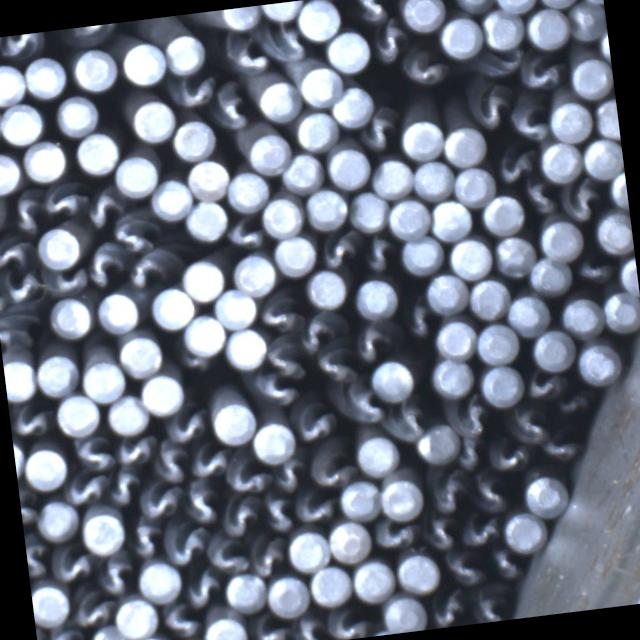tool: (80, 505, 128, 554), (522, 472, 570, 520), (116, 331, 164, 379), (71, 44, 120, 91), (436, 14, 483, 62), (22, 444, 69, 492), (324, 144, 372, 191), (265, 572, 312, 620), (210, 399, 258, 446), (120, 37, 168, 84), (80, 355, 128, 402), (130, 96, 177, 144), (34, 223, 82, 269), (148, 282, 196, 328), (324, 28, 372, 74), (54, 391, 102, 437), (21, 138, 69, 184), (136, 557, 184, 603), (538, 216, 586, 262), (73, 129, 121, 175), (394, 549, 442, 595), (370, 357, 418, 403), (328, 520, 375, 566), (304, 186, 351, 232), (446, 235, 493, 281), (138, 371, 185, 417), (53, 92, 100, 138), (232, 250, 279, 296), (490, 233, 536, 280), (114, 151, 162, 196), (112, 594, 160, 639), (523, 6, 569, 52), (306, 564, 352, 610), (548, 99, 594, 145), (250, 420, 296, 466), (428, 196, 474, 242), (351, 558, 397, 604), (578, 133, 624, 179), (94, 288, 140, 334), (23, 53, 69, 99), (378, 474, 424, 520), (506, 292, 552, 338), (48, 294, 94, 340), (258, 77, 304, 123), (577, 340, 623, 386), (330, 82, 376, 128), (354, 276, 400, 322), (424, 269, 470, 315), (223, 325, 270, 370), (398, 116, 445, 161), (354, 433, 401, 478), (558, 294, 605, 339), (180, 312, 228, 356), (244, 131, 292, 175), (0, 100, 45, 146), (536, 137, 582, 182), (478, 5, 524, 50), (387, 194, 432, 240), (185, 156, 230, 202), (34, 352, 79, 398), (443, 123, 489, 168), (479, 362, 525, 407), (502, 509, 548, 554), (530, 328, 576, 373), (148, 176, 194, 221), (414, 419, 460, 464), (179, 256, 226, 300), (370, 154, 417, 198), (285, 528, 332, 572), (212, 284, 259, 328), (183, 198, 230, 242), (170, 116, 217, 160), (272, 232, 317, 277), (299, 64, 345, 108), (226, 167, 272, 211), (476, 318, 520, 364), (570, 54, 614, 100), (104, 392, 150, 436), (280, 150, 326, 194), (428, 353, 474, 397), (380, 592, 428, 634), (295, 108, 340, 152), (223, 568, 268, 612), (434, 316, 478, 361), (468, 276, 512, 321), (479, 191, 525, 234), (30, 580, 72, 627), (294, 0, 341, 42), (162, 30, 206, 74), (260, 194, 304, 238), (303, 266, 347, 310), (348, 188, 392, 232), (338, 476, 382, 520), (35, 496, 79, 540), (528, 252, 574, 294), (399, 234, 445, 276), (452, 163, 497, 205), (594, 209, 634, 256), (413, 157, 456, 200), (600, 289, 640, 334), (2, 356, 38, 402), (399, 0, 447, 32), (200, 612, 246, 640), (0, 60, 27, 105), (593, 96, 620, 140), (219, 5, 261, 31), (0, 149, 22, 196), (616, 253, 640, 296), (606, 168, 628, 209), (260, 0, 305, 20), (88, 621, 131, 640), (12, 439, 26, 482), (453, 0, 495, 14), (491, 0, 536, 13), (596, 26, 610, 65), (535, 0, 580, 10), (129, 633, 173, 640)
tool_b: (334, 378, 388, 433), (209, 80, 256, 136), (222, 30, 274, 80), (308, 440, 358, 490), (290, 397, 338, 447), (424, 464, 472, 514), (81, 239, 127, 291), (246, 367, 298, 413), (109, 207, 158, 255), (400, 46, 450, 92), (264, 332, 308, 384), (349, 316, 397, 363), (163, 520, 210, 568), (93, 548, 138, 597), (295, 309, 342, 355), (203, 531, 250, 577), (313, 340, 360, 386), (357, 108, 402, 156), (123, 243, 172, 287), (68, 430, 114, 476), (469, 84, 513, 132), (560, 176, 604, 224), (2, 187, 45, 236), (136, 477, 182, 522), (84, 185, 128, 232), (8, 399, 53, 444), (266, 22, 310, 68), (223, 454, 270, 497), (178, 478, 220, 526), (49, 540, 94, 584), (217, 492, 260, 538), (68, 587, 112, 631), (255, 290, 299, 334), (39, 179, 84, 222), (510, 99, 553, 144), (563, 0, 606, 45), (155, 598, 201, 640), (440, 549, 486, 591), (468, 582, 514, 624), (164, 406, 212, 446), (370, 20, 411, 66), (151, 440, 192, 486), (369, 514, 416, 554), (182, 566, 225, 609), (292, 486, 338, 526), (249, 534, 290, 578), (518, 52, 562, 93), (521, 178, 562, 222), (0, 267, 44, 308), (168, 72, 215, 110), (102, 466, 144, 508), (448, 396, 490, 438), (508, 404, 550, 446), (316, 228, 359, 269), (492, 147, 536, 187), (470, 469, 510, 513), (459, 510, 504, 549), (480, 44, 528, 80), (428, 588, 471, 628), (223, 212, 266, 252), (323, 604, 370, 640), (186, 441, 228, 481), (386, 400, 426, 442), (258, 490, 296, 534), (43, 262, 89, 298), (574, 250, 617, 288), (62, 470, 105, 508), (270, 452, 310, 492), (126, 518, 164, 560), (112, 431, 154, 468), (399, 302, 436, 344), (0, 228, 35, 272), (484, 546, 524, 584), (488, 440, 530, 476), (538, 428, 581, 463), (421, 514, 459, 553), (362, 235, 398, 276), (522, 369, 563, 403), (61, 22, 118, 46), (24, 533, 51, 583), (0, 31, 46, 60), (451, 437, 486, 474), (344, 0, 391, 25), (552, 388, 590, 418), (248, 613, 288, 640), (18, 487, 40, 535), (290, 612, 327, 640), (44, 621, 90, 640)
